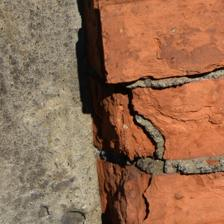Crack: (44, 25, 125, 137), (8, 2, 82, 54)
